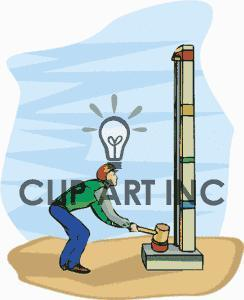person: (37, 155, 135, 277)
